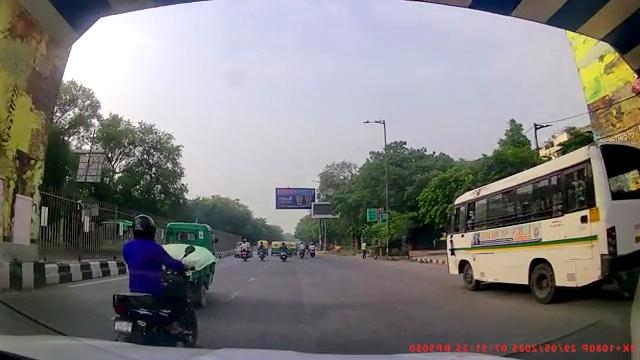motorcycle_with_helmet: (109, 213, 198, 343)
